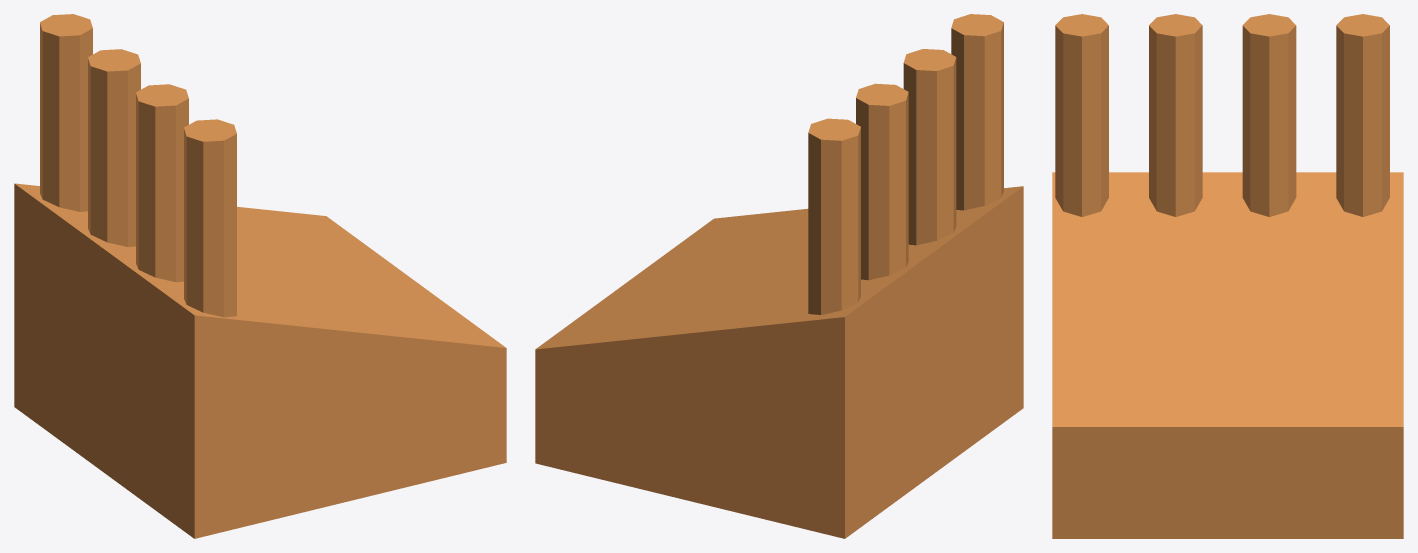
File: workFactory.fbx
3 views of the same model, side by side, from view 1: azimuth 30°, elevation 25°; view 2: azimuth 150°, elevation 25°; view 3: azimuth 270°, elevation 25° (orthographic). The views are drawn at different scales.
Visible parts, largest first — view 1: Factory; view 2: Factory; view 3: Factory.
Part boxes in pixels (x1,y1,x2,y2): Factory: [14, 14, 506, 538]; Factory: [535, 14, 1023, 538]; Factory: [1052, 14, 1403, 538].
Bounding box in the file's own units: 200 × 238 × 200.
